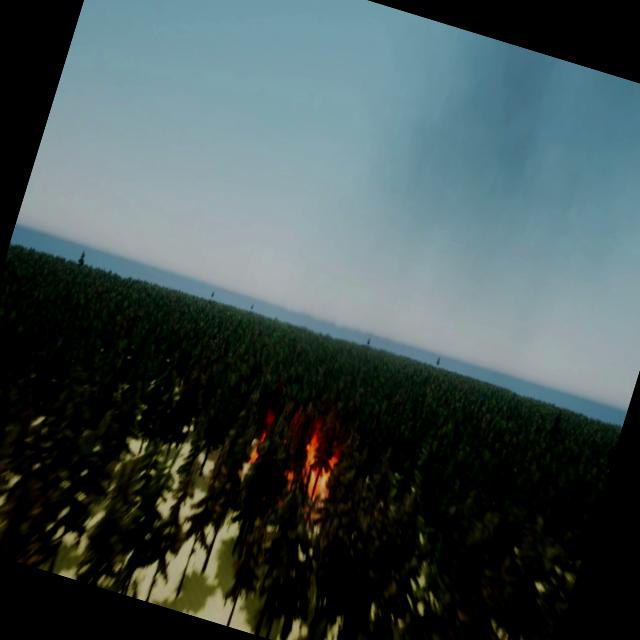fire: (244, 399, 350, 501)
